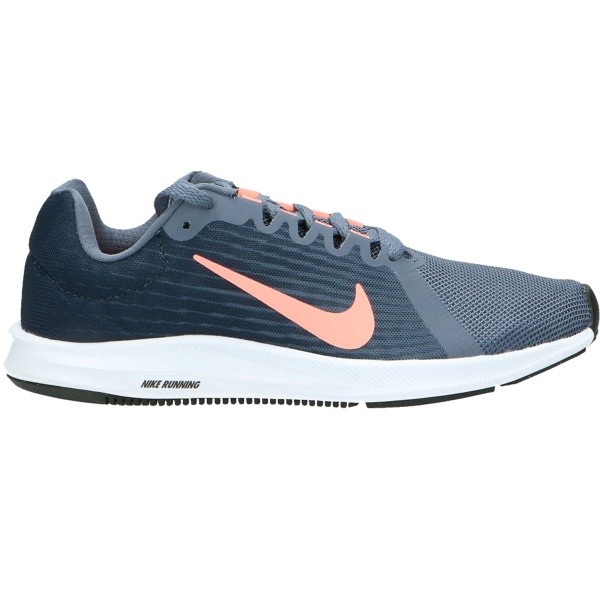nike: (187, 249, 378, 353)
